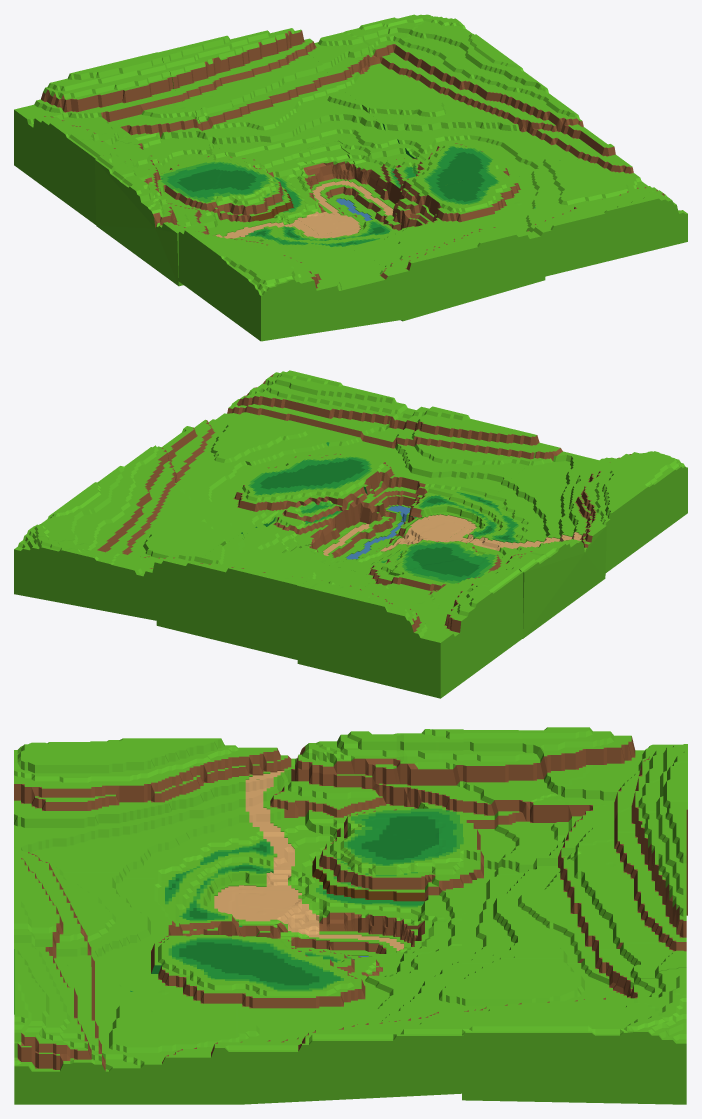
Rendered from Level One Valley Terrain Map Further Coloration Test 11.fbx.
3 renders of one model, top to bottom at view 1: azimuth 30°, elevation 25°; view 2: azimuth 150°, elevation 25°; view 3: azimuth 270°, elevation 25°, orthographic. The views are drawn at different scales.
Parts seen in each view (by area): view 1: Cube.001; view 2: Cube.001; view 3: Cube.001.
Part boxes in pixels (<box>): Cube.001: <box>14,14,687,341</box>; Cube.001: <box>14,370,687,698</box>; Cube.001: <box>14,727,687,1104</box>.
Size of the model in its own units: 18001 by 4003 by 17979.
